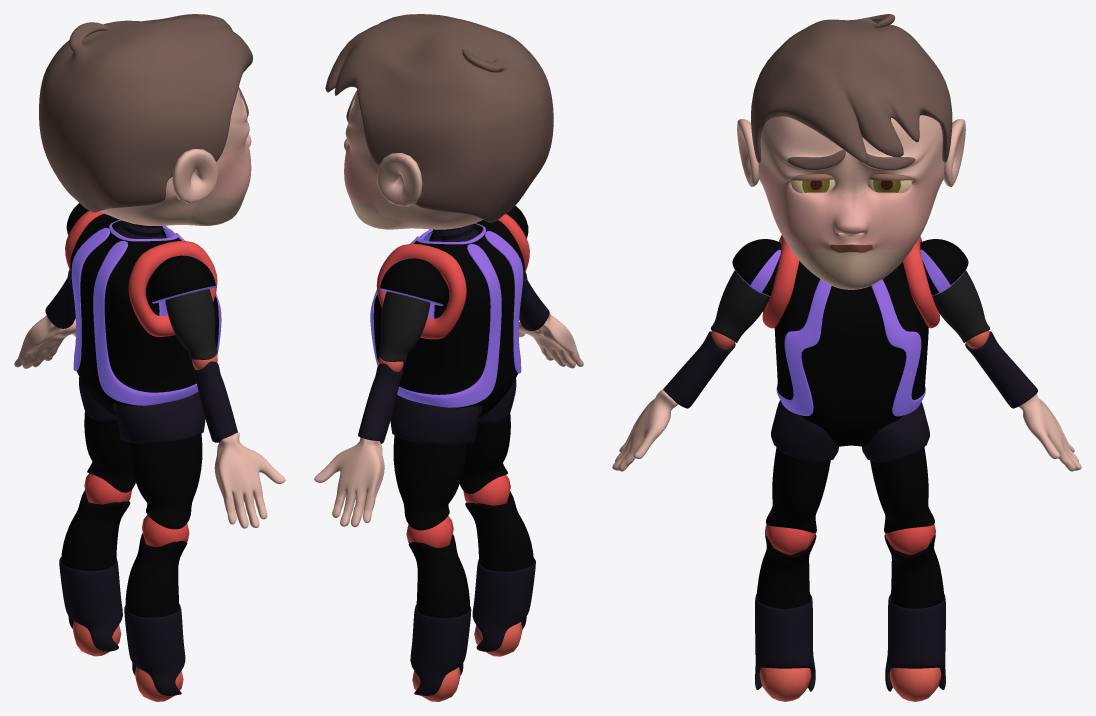
Rendered from юля.fbx.
3 renders of one model, left to right at view 1: azimuth 30°, elevation 25°; view 2: azimuth 150°, elevation 25°; view 3: azimuth 270°, elevation 25°, orthographic. The views are drawn at different scales.
Parts seen in each view (by area): view 1: Cube.005, Roundcube.002, Sphere.012, Sphere.008, Cube, Sphere.006, Sphere.002, Sphere.005, Sphere.009, Sphere.011, Sphere.004, Sphere.010 (+2 smaller); view 2: Cube.005, Roundcube.002, Sphere.012, Sphere.008, Sphere.006, Cube, Sphere.002, Sphere.005, Sphere.009, Sphere.011, Sphere.004, Sphere.010 (+2 smaller); view 3: Roundcube.002, Cube, Cube.005, Sphere.012, Sphere.008, Sphere.006, Sphere.005, Sphere.011, Sphere.009, Sphere.002, Sphere.004, Sphere.014 (+2 smaller).
Boxes of the visible parts, x1,y1,x2,y2 form: Cube.005: (39, 14, 252, 212); Roundcube.002: (65, 210, 221, 416); Sphere.012: (59, 557, 185, 695); Sphere.008: (84, 411, 202, 529); Cube: (100, 87, 251, 225); Sphere.006: (61, 490, 187, 617); Sphere.002: (14, 315, 285, 528); Sphere.005: (79, 376, 205, 443); Sphere.009: (45, 269, 237, 442); Sphere.011: (165, 289, 217, 359); Sphere.004: (66, 203, 216, 303); Sphere.010: (84, 473, 189, 547); Cube.005: (325, 14, 553, 222); Roundcube.002: (370, 214, 529, 417); Sphere.012: (410, 558, 535, 695); Sphere.008: (393, 413, 510, 530); Sphere.006: (408, 491, 533, 618); Cube: (344, 90, 482, 229); Sphere.002: (314, 310, 583, 527); Sphere.005: (390, 378, 516, 444); Sphere.009: (358, 272, 549, 443); Sphere.011: (378, 291, 430, 361); Sphere.004: (380, 206, 528, 305); Sphere.010: (406, 475, 510, 547); Roundcube.002: (762, 235, 939, 446); Cube: (737, 115, 965, 289); Cube.005: (751, 14, 952, 163); Sphere.012: (755, 594, 945, 691); Sphere.008: (766, 447, 934, 532); Sphere.006: (756, 533, 944, 608); Sphere.005: (771, 400, 929, 462); Sphere.011: (710, 270, 989, 342); Sphere.009: (663, 331, 1037, 408); Sphere.002: (612, 389, 1081, 471); Sphere.004: (732, 239, 968, 296); Sphere.014: (759, 667, 941, 701).
Bounding box in the file's own units: 177 × 553 × 349.
